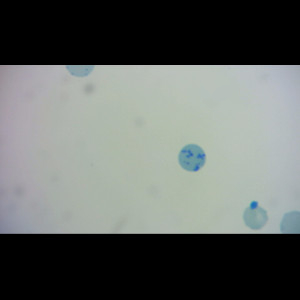aggregate reticulocyte: (177, 143, 207, 173)
erythrocyte: (242, 200, 271, 231)
